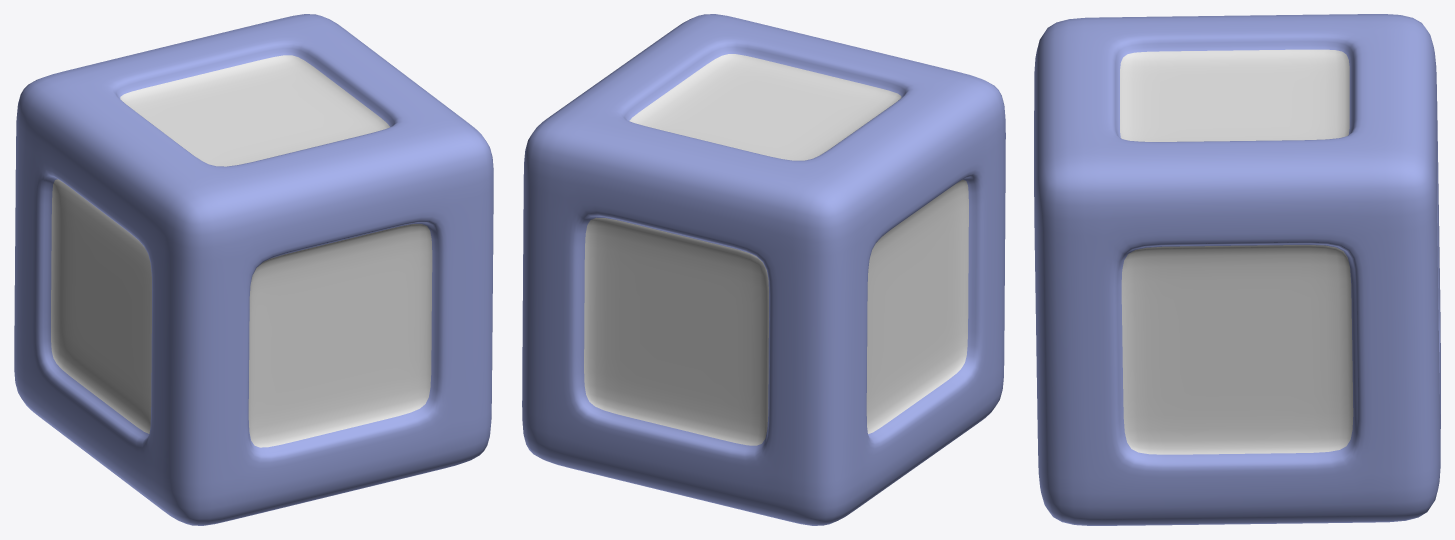
The model's file is Dice.fbx.
3 renders of one model, left to right at view 1: azimuth 30°, elevation 25°; view 2: azimuth 150°, elevation 25°; view 3: azimuth 270°, elevation 25°, orthographic. The views are drawn at different scales.
Visible parts, largest first — view 1: Dice; view 2: Dice; view 3: Dice.
Boxes of the visible parts, x1,y1,x2,y2 form: Dice: (14,14,493,525); Dice: (522,14,1005,525); Dice: (1034,14,1440,525).
Bounding box in the file's own units: 2 × 2.02 × 2.02.
